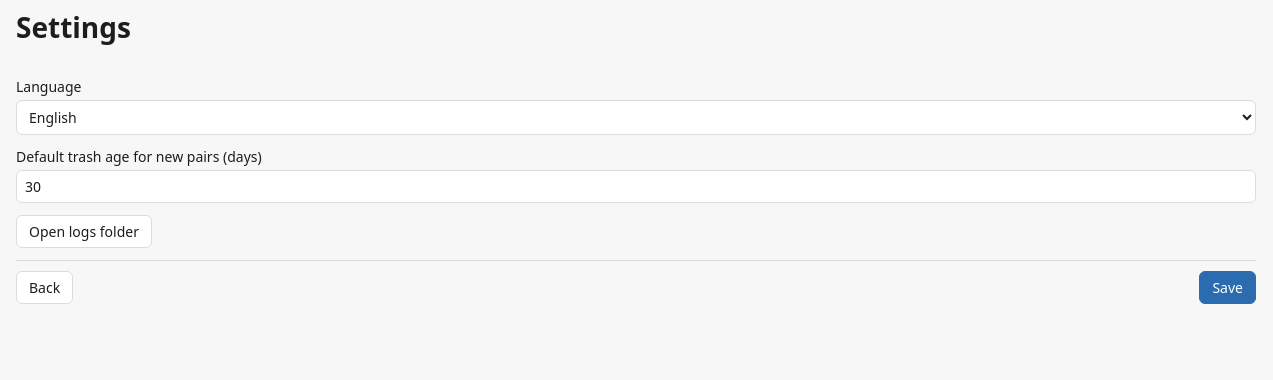
Test: Settings › shows an error when the logs folder cannot be opened
Click the button "Open logs folder": [84, 231] box [16,214,152,248]
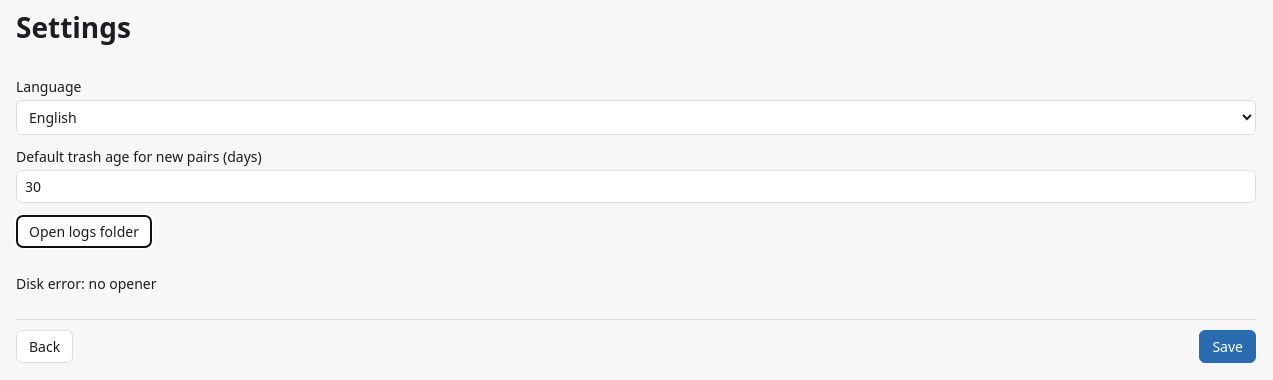
expect the text "Disk error: no opener" is shown: met, box [16,274,156,292]
